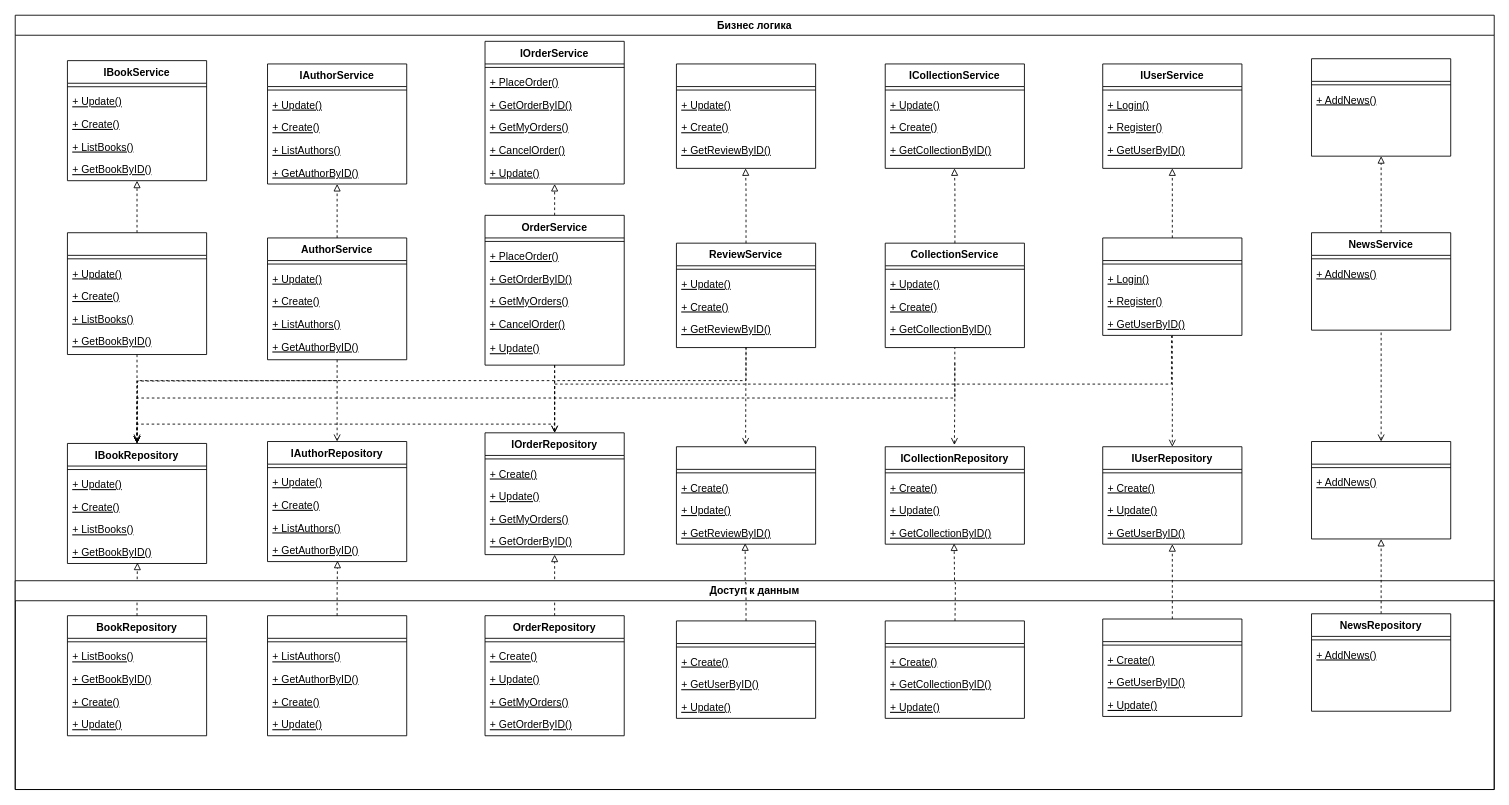
This 1509x805 diagram has some shape labels left out. Here are the shapes that lost their labels. From the top down, the box of each, then its label:
(676, 63, 816, 168): IReviewService
(1311, 58, 1451, 156): INewsService
(67, 232, 207, 355): BookService
(1102, 237, 1242, 335): UserService
(676, 446, 816, 544): IReviewRepository
(1311, 441, 1451, 539): INewsRepository
(267, 615, 407, 736): AuthorRepository
(676, 620, 816, 718): ReviewRepository
(884, 620, 1024, 718): CollectionRepository
(1102, 618, 1242, 716): UserRepository
